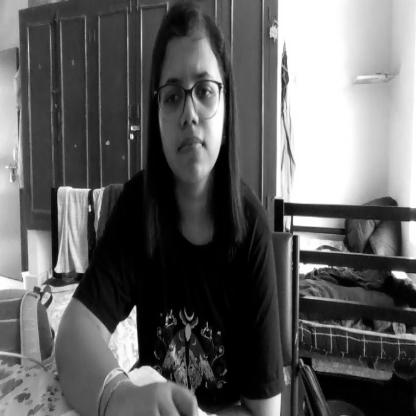Normal: (152, 3, 230, 192)
